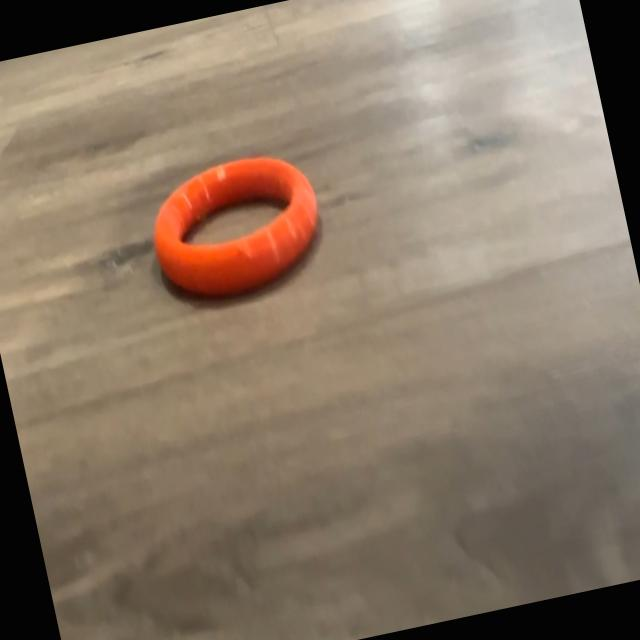note: (139, 140, 329, 302)
